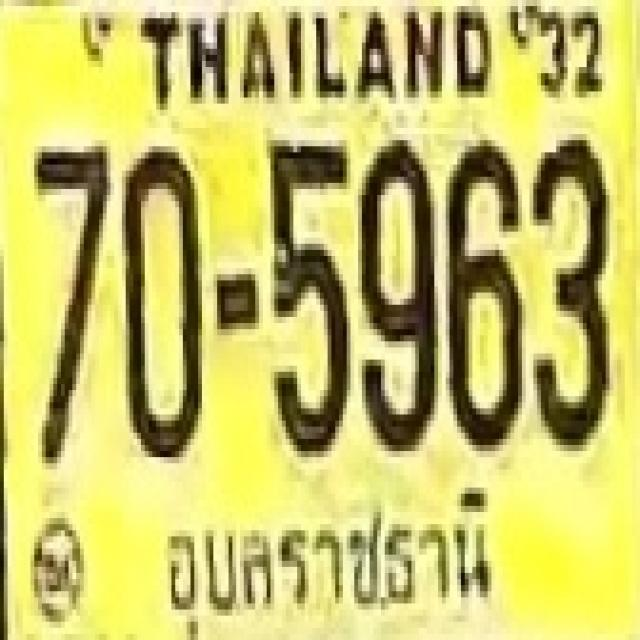0: (120, 140, 200, 457)
3: (530, 134, 606, 445)
5: (268, 137, 348, 454)
6: (446, 134, 518, 445)
7: (30, 143, 110, 460)
9: (358, 134, 434, 445)
UBN: (144, 481, 510, 640)
